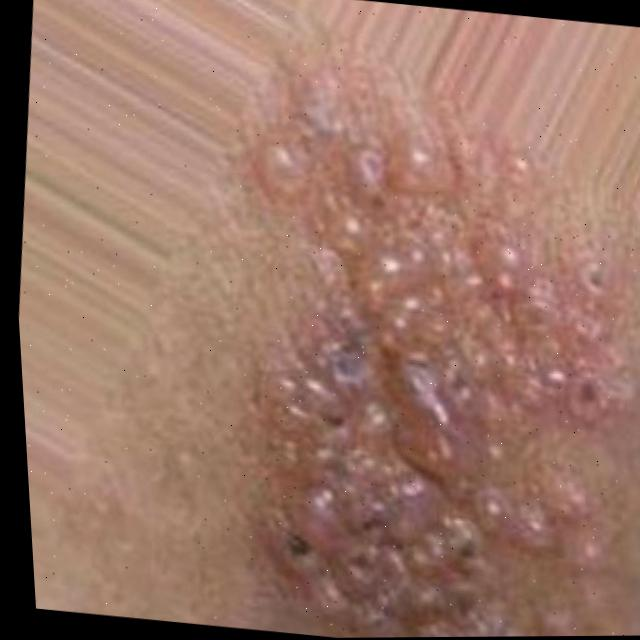Shingles: (203, 74, 640, 639)
